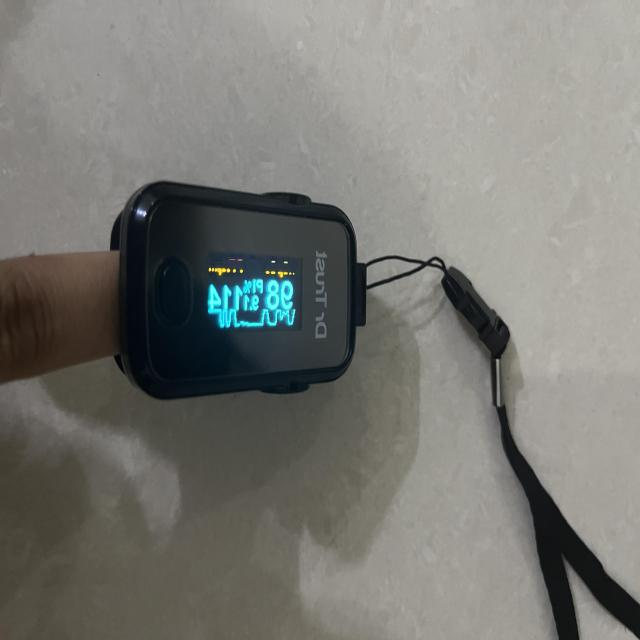spo2: (108, 182, 367, 402)
